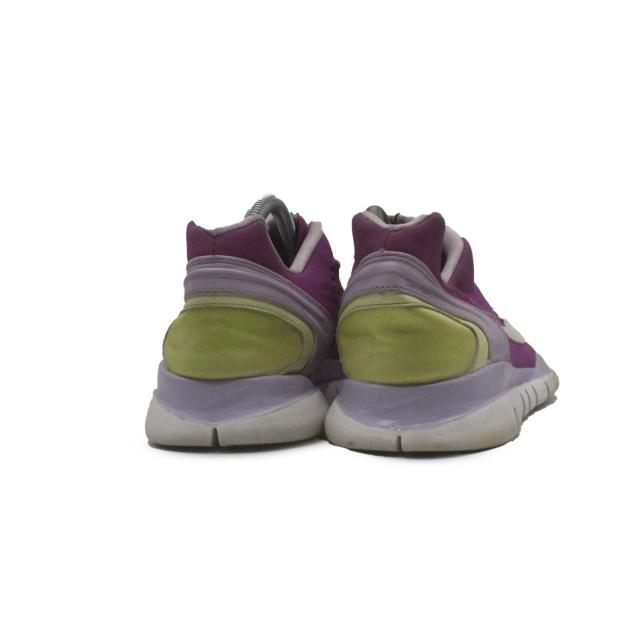heel: (333, 212, 508, 383), (160, 217, 314, 381)
midsole: (321, 355, 556, 454), (143, 358, 328, 449)
